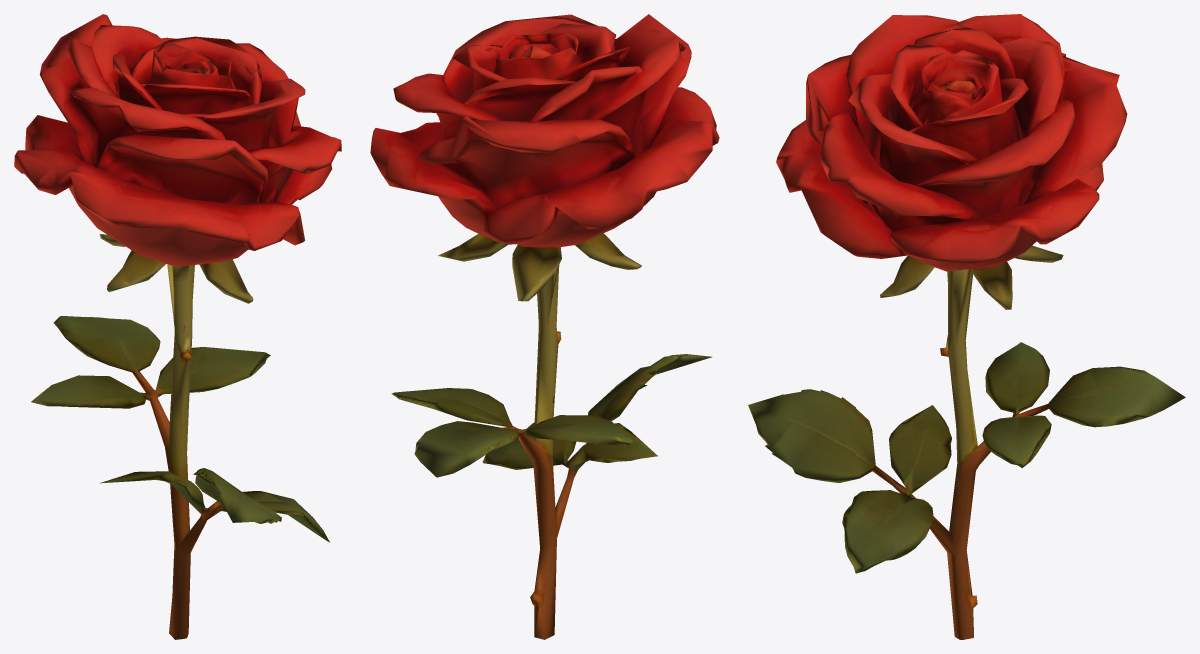
Rendered from Red Rose.glb.
3 renders of one model, left to right at view 1: azimuth 30°, elevation 25°; view 2: azimuth 150°, elevation 25°; view 3: azimuth 270°, elevation 25°, orthographic. The views are drawn at different scales.
Parts seen in each view (by area): view 1: tripo_node_635f2390-5574-46a5-b2e3-dae021576204; view 2: tripo_node_635f2390-5574-46a5-b2e3-dae021576204; view 3: tripo_node_635f2390-5574-46a5-b2e3-dae021576204.
Part boxes in pixels (x1,y1,x2,y2): tripo_node_635f2390-5574-46a5-b2e3-dae021576204: (14, 14, 341, 639); tripo_node_635f2390-5574-46a5-b2e3-dae021576204: (370, 14, 719, 639); tripo_node_635f2390-5574-46a5-b2e3-dae021576204: (748, 14, 1185, 639).
Size of the model in its own units: 0.4913 by 0.978 by 0.6615.
Materials: 1 (1 with a texture image).
